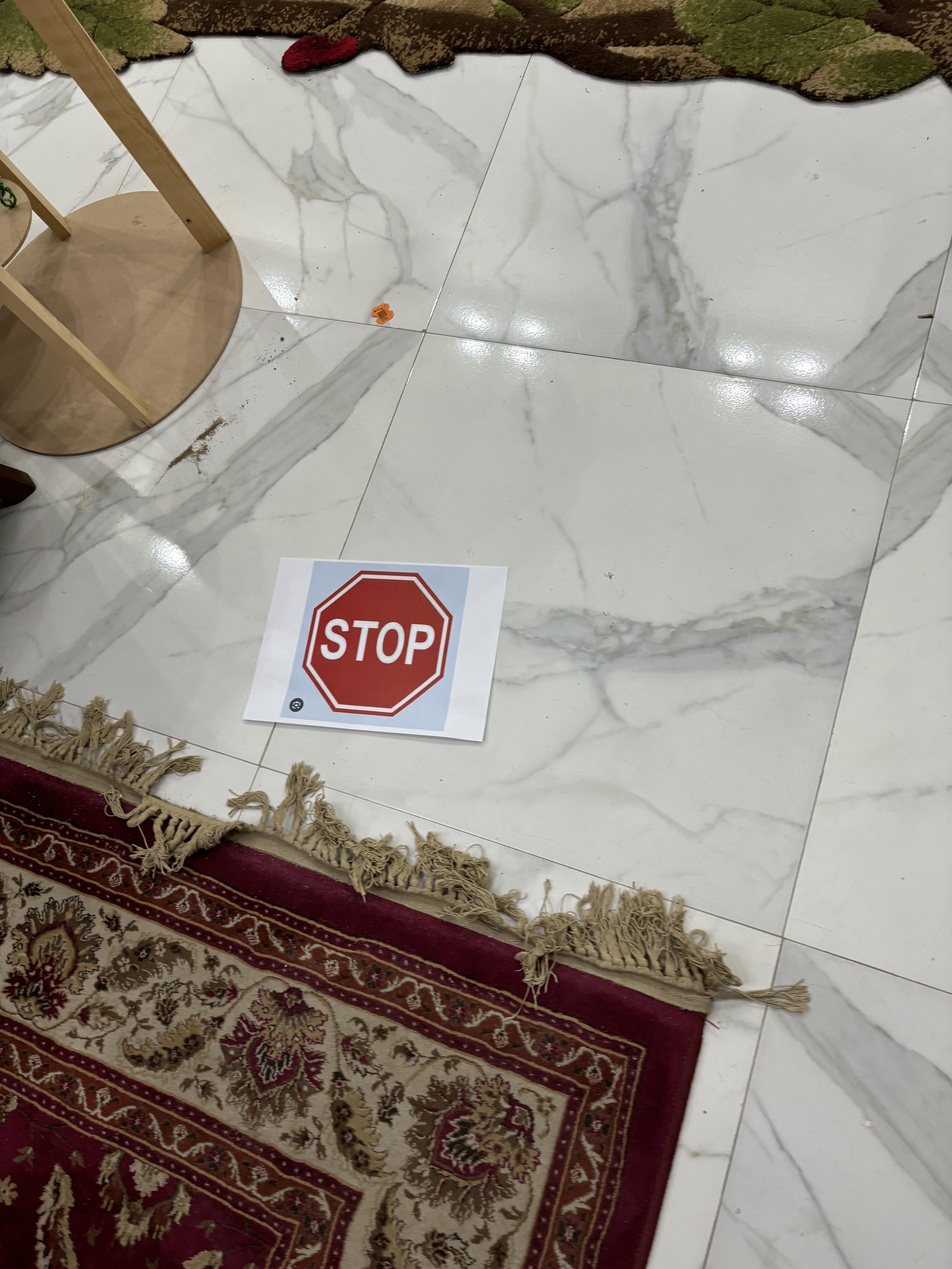Stop: (296, 567, 463, 721)
